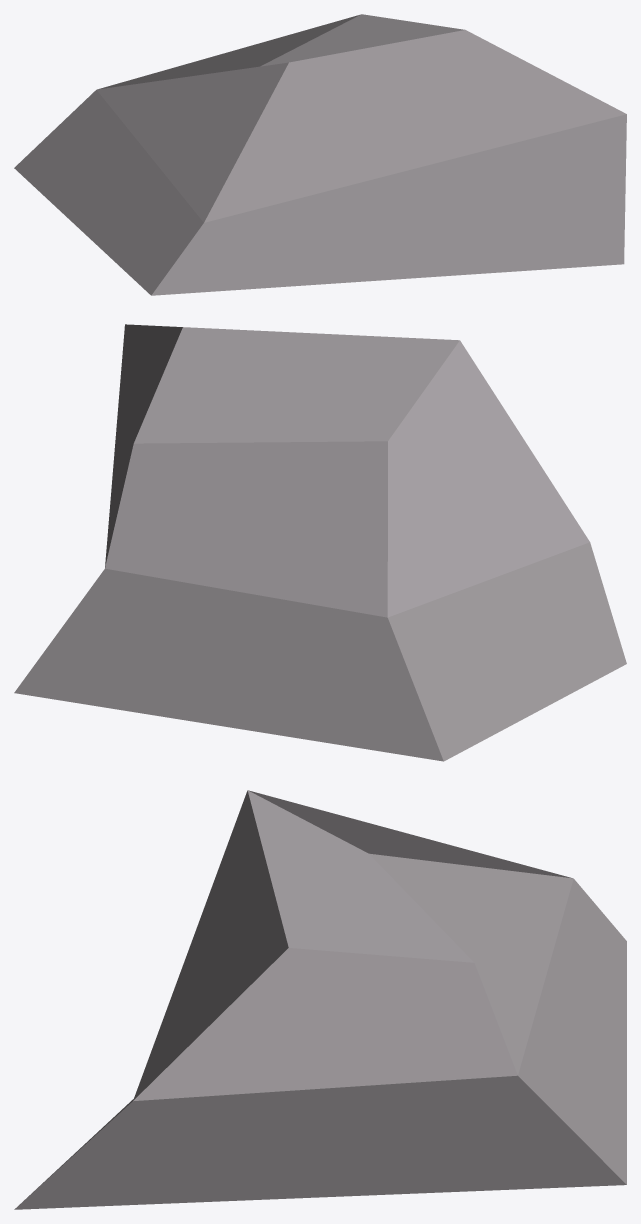
Rendered from rock.gltf.
The picture shows the model from 3 angles, top to bottom: view 1: azimuth 30°, elevation 25°; view 2: azimuth 150°, elevation 25°; view 3: azimuth 270°, elevation 25°; orthographic projection. The views are drawn at different scales.
Parts seen in each view (by area): view 1: Cube; view 2: Cube; view 3: Cube.
Part boxes in pixels (left/top/right/bottom): Cube: left=14, top=14, right=626, bottom=295; Cube: left=14, top=324, right=626, bottom=761; Cube: left=14, top=790, right=626, bottom=1209.
Size of what is drawn, in the model's own units: 2.64 by 1.22 by 2.49.
1 material, 1 textured.
